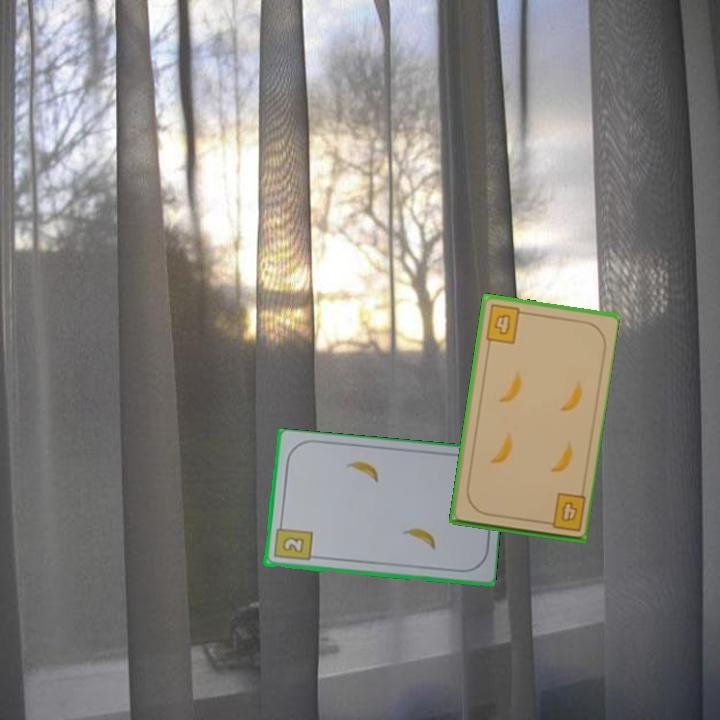2b: (270, 519, 314, 564)
4b: (539, 490, 588, 535), (482, 301, 529, 347)
